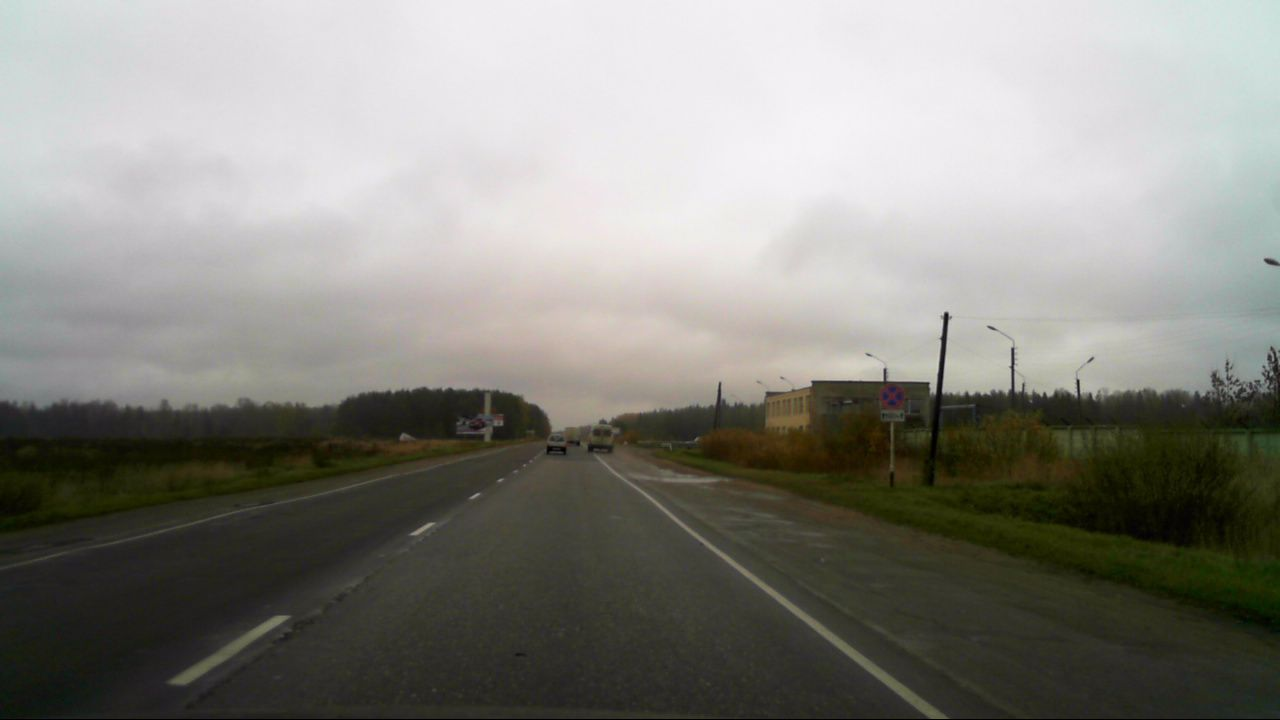No Parking: (878, 382, 905, 409)
